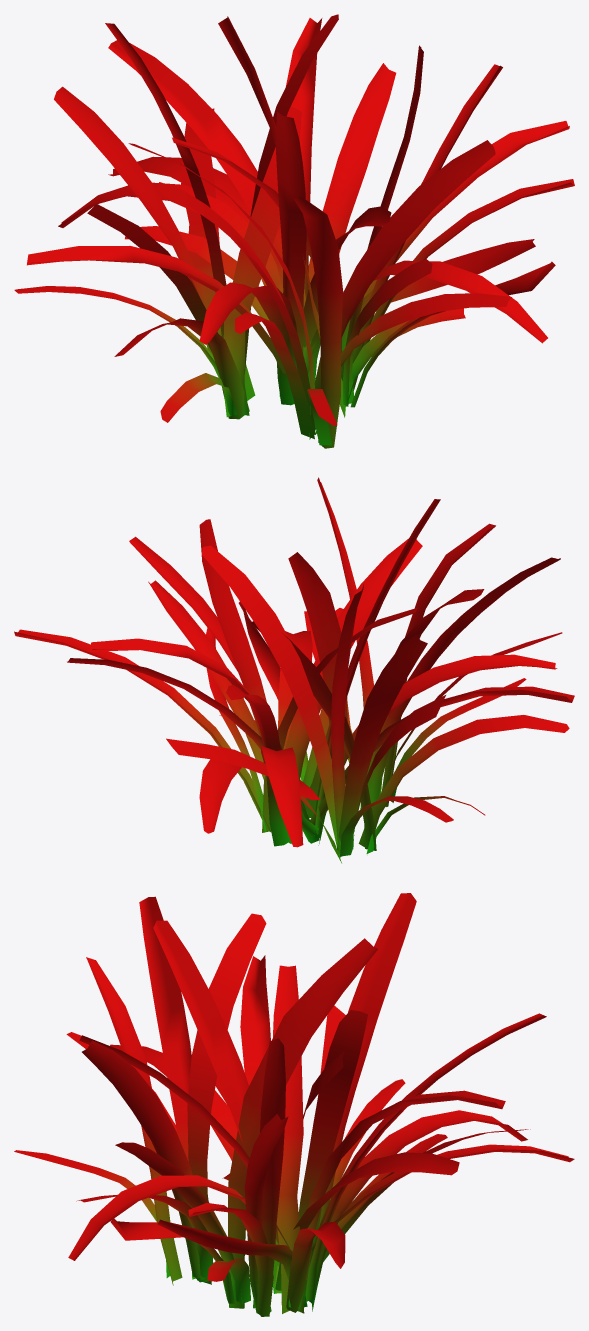
File: Var7_LOD0.fbx
The picture shows the model from 3 angles, top to bottom: view 1: azimuth 30°, elevation 25°; view 2: azimuth 150°, elevation 25°; view 3: azimuth 270°, elevation 25°; orthographic projection. The views are drawn at different scales.
Visible parts, largest first — view 1: _c665_Var7_LOD0; view 2: _c665_Var7_LOD0; view 3: _c665_Var7_LOD0.
Boxes of the visible parts, x1,y1,x2,y2 form: _c665_Var7_LOD0: [14, 14, 574, 448]; _c665_Var7_LOD0: [14, 477, 574, 863]; _c665_Var7_LOD0: [14, 893, 574, 1316].
Size of the model in its own units: 99.31 by 59.94 by 86.14.
